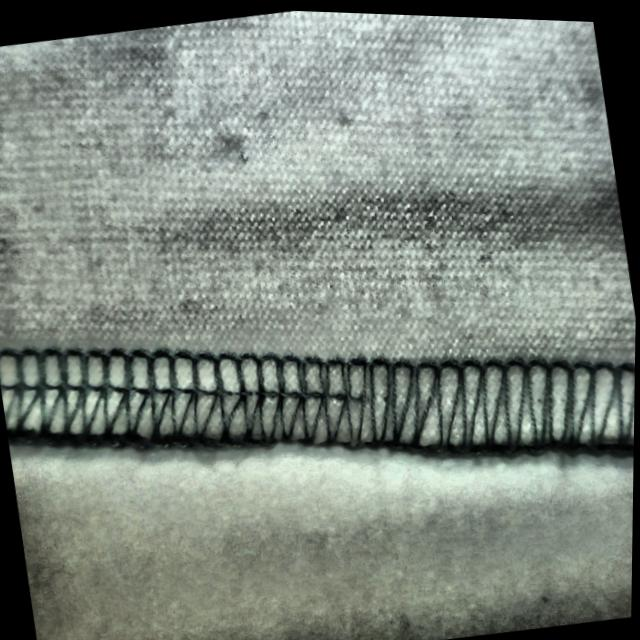Stitch: (118, 281, 567, 512)
